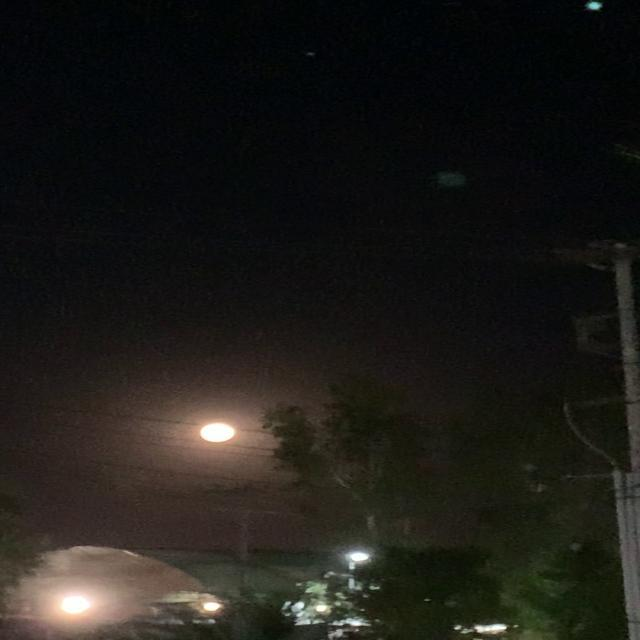moon: (193, 419, 235, 444)
